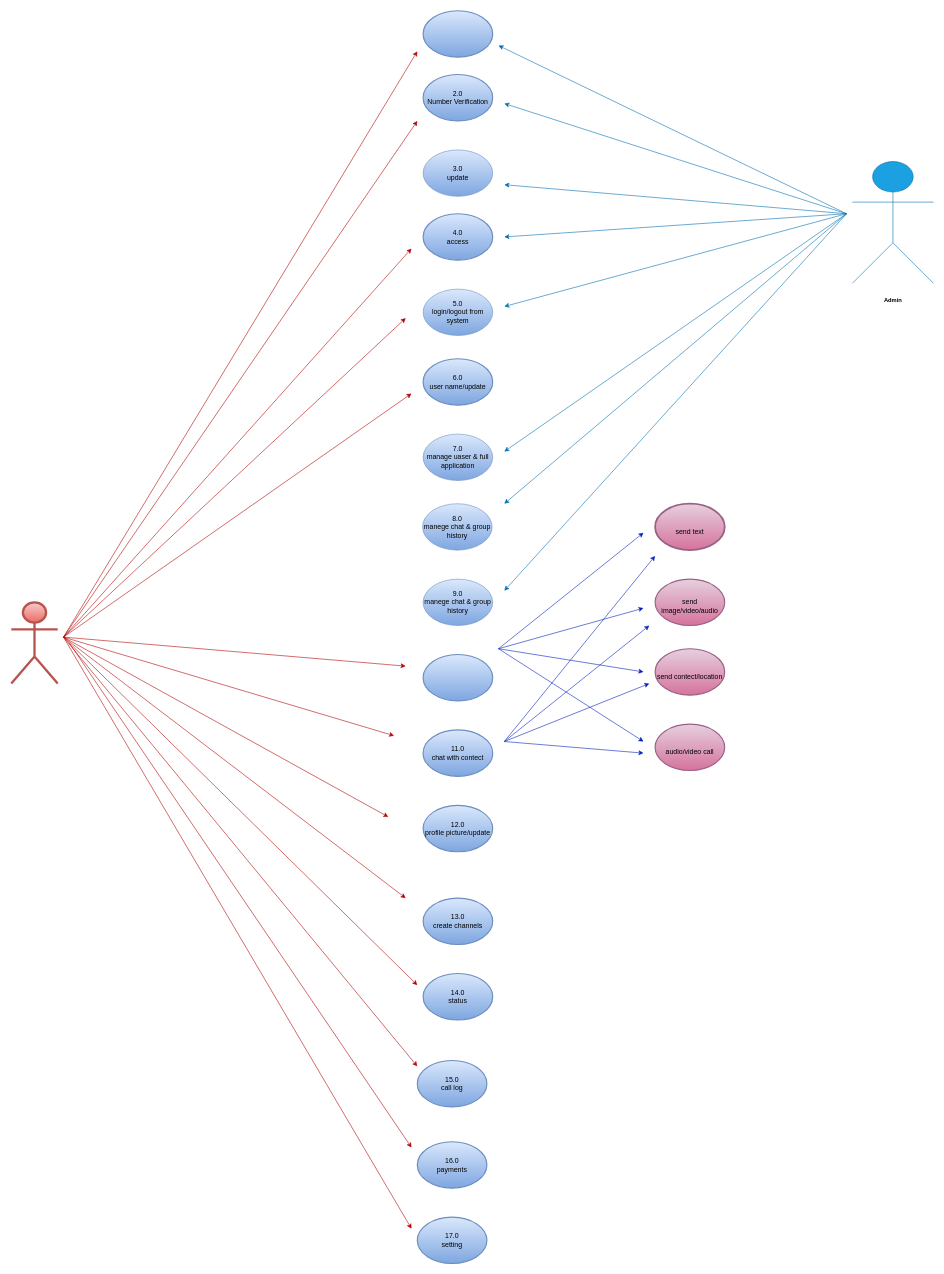
This 944x1274 diagram has some shape labels left out. The shapes that lost their labels are listed below. From the top down, each one's box as (x1, y1, x2, y2) in pixels, then its label:
(422, 10, 493, 57): 1.0 terms & condition
(10, 601, 59, 684): User
(422, 654, 493, 701): 10.0 create group
